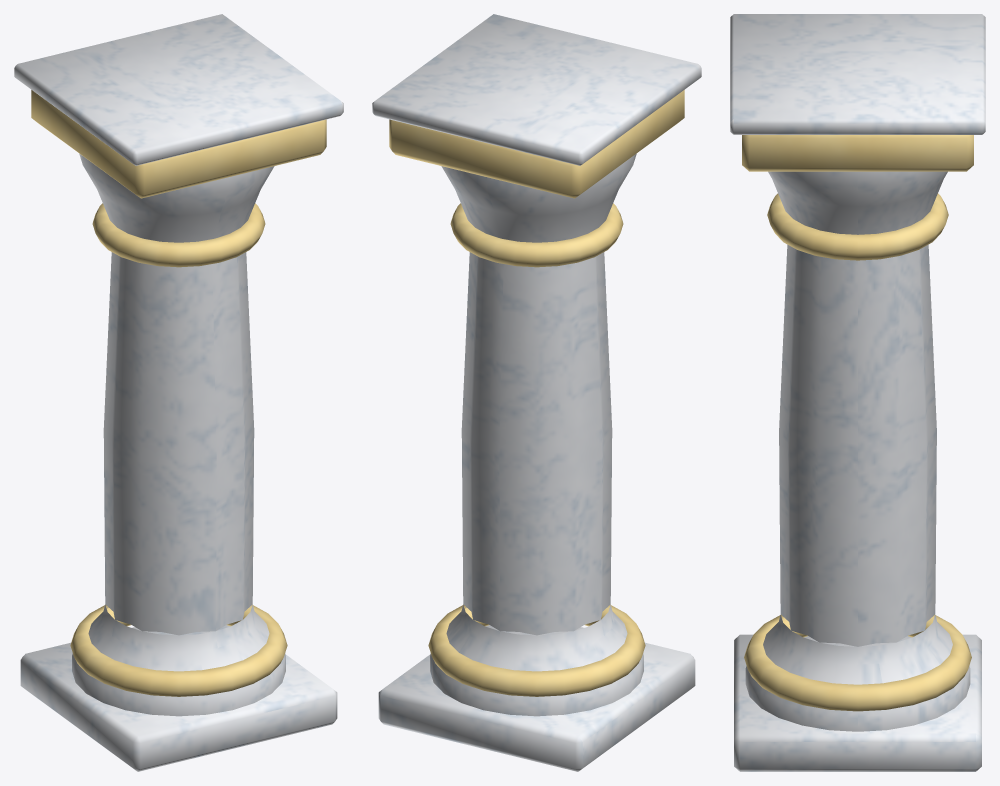
Rendered from temple_column_short.gltf.
3 views of the same model, side by side, from view 1: azimuth 30°, elevation 25°; view 2: azimuth 150°, elevation 25°; view 3: azimuth 270°, elevation 25° (orthographic). The views are drawn at different scales.
Visible parts, largest first — view 1: temple_column_short; view 2: temple_column_short; view 3: temple_column_short.
Boxes of the visible parts, bbox=[...] form: temple_column_short: bbox=[14, 14, 343, 771]; temple_column_short: bbox=[372, 14, 701, 771]; temple_column_short: bbox=[730, 14, 985, 771].
Size of the model in its own units: 0.858 by 2.43 by 0.858.
Materials: 1 (1 with a texture image).
